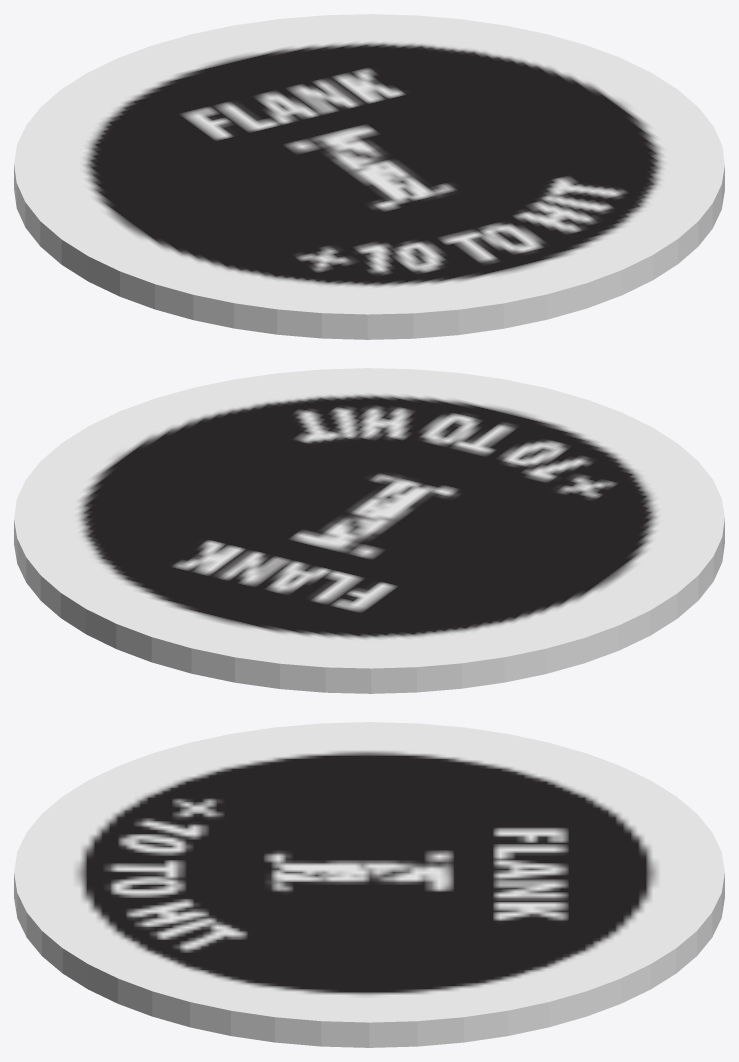
3 views of the same model, one above another, from view 1: azimuth 30°, elevation 25°; view 2: azimuth 150°, elevation 25°; view 3: azimuth 270°, elevation 25° (orthographic).
Visible parts, largest first — view 1: Curve.012_Curve.791; view 2: Curve.012_Curve.791; view 3: Curve.012_Curve.791.
Boxes of the visible parts, left/top/right/bottom form: Curve.012_Curve.791: left=14, top=14, right=724, bottom=339; Curve.012_Curve.791: left=14, top=368, right=724, bottom=693; Curve.012_Curve.791: left=14, top=722, right=724, bottom=1047.
Bounding box in the file's own units: 1 × 0.0394 × 1.
